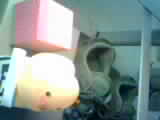duck: (13, 37, 87, 105)
